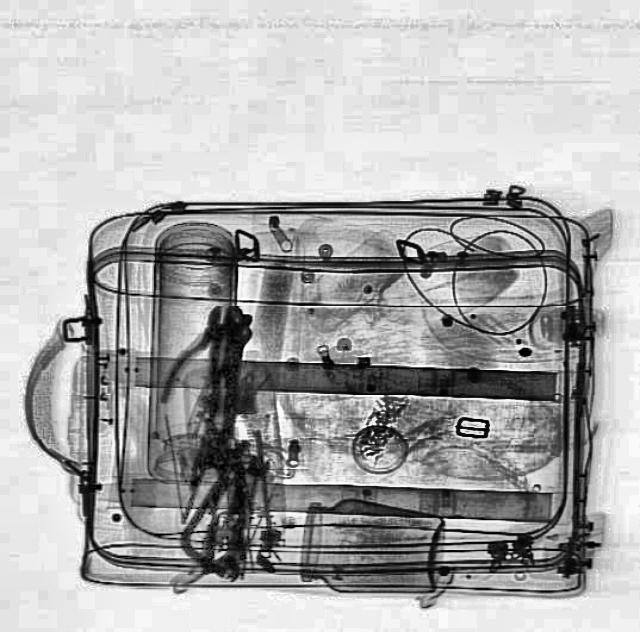Pliers: (154, 298, 252, 420)
